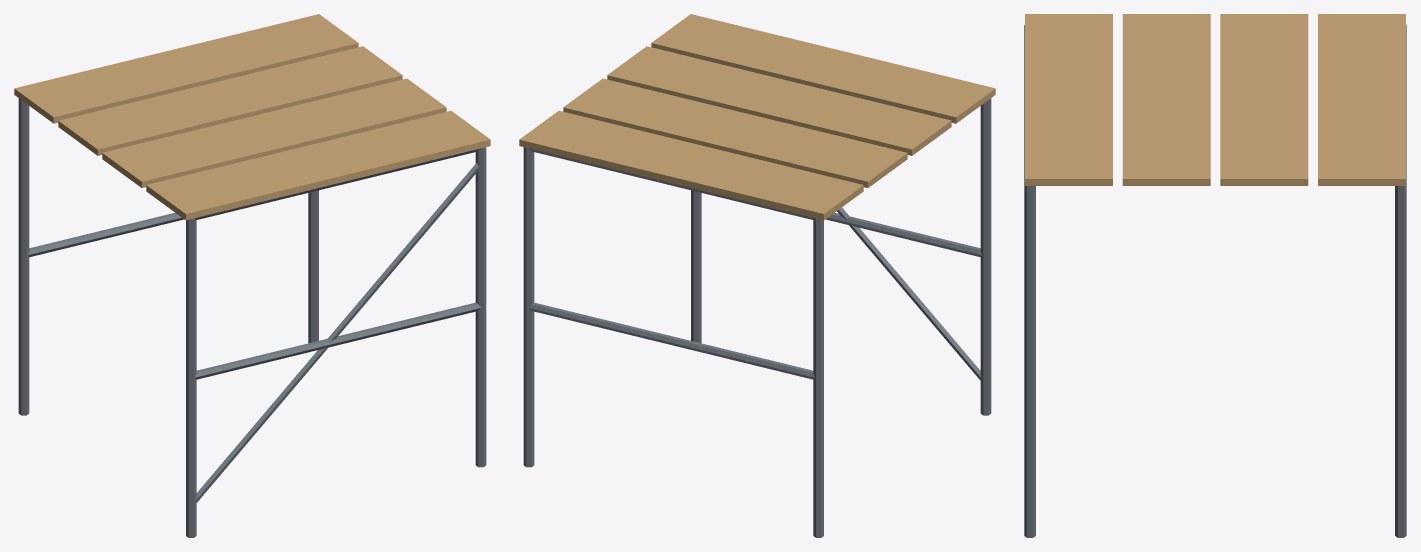
Rendered from scaffold_section_2m.glb.
3 renders of one model, left to right at view 1: azimuth 30°, elevation 25°; view 2: azimuth 150°, elevation 25°; view 3: azimuth 270°, elevation 25°, orthographic. The views are drawn at different scales.
Visible parts, largest first — view 1: scaffold_section_2m; view 2: scaffold_section_2m; view 3: scaffold_section_2m.
Part boxes in pixels (<box>): scaffold_section_2m: <box>14,14,490,537</box>; scaffold_section_2m: <box>519,14,995,537</box>; scaffold_section_2m: <box>1024,14,1406,537</box>.
Size of the model in its own units: 2 by 2.04 by 1.96.
